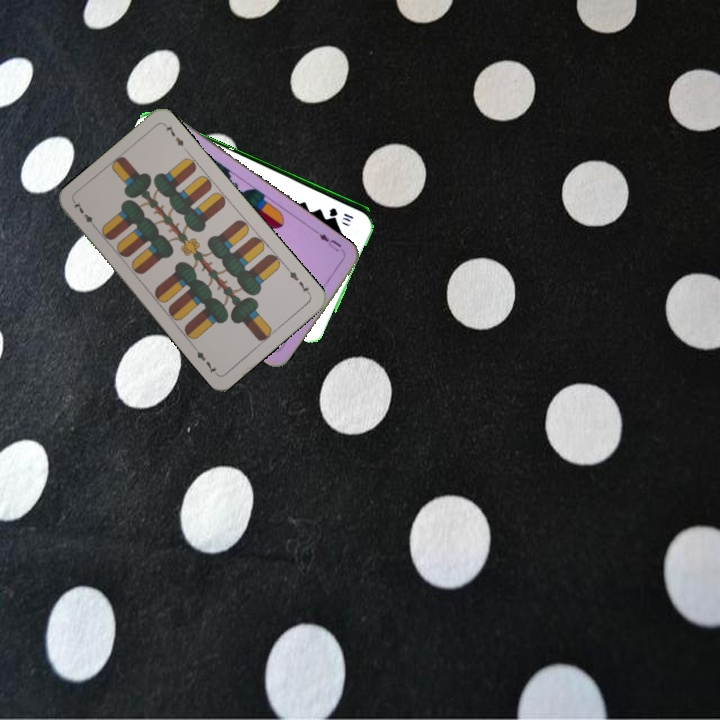E7: (283, 264, 313, 298), (70, 198, 100, 232)
EU: (312, 227, 347, 256)
G10: (325, 204, 356, 221)
